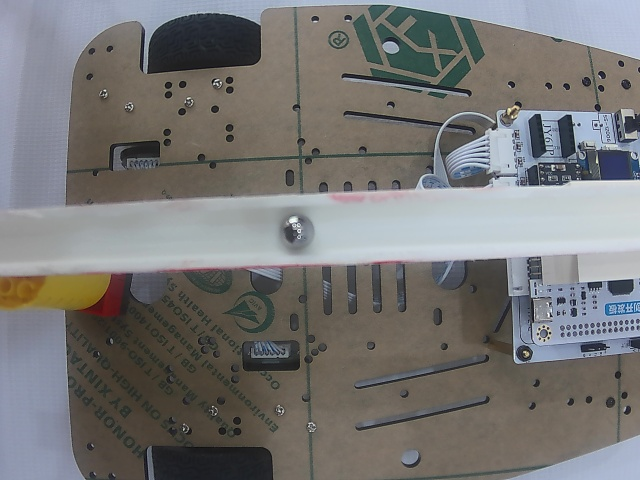steelball: (278, 213, 316, 252)
